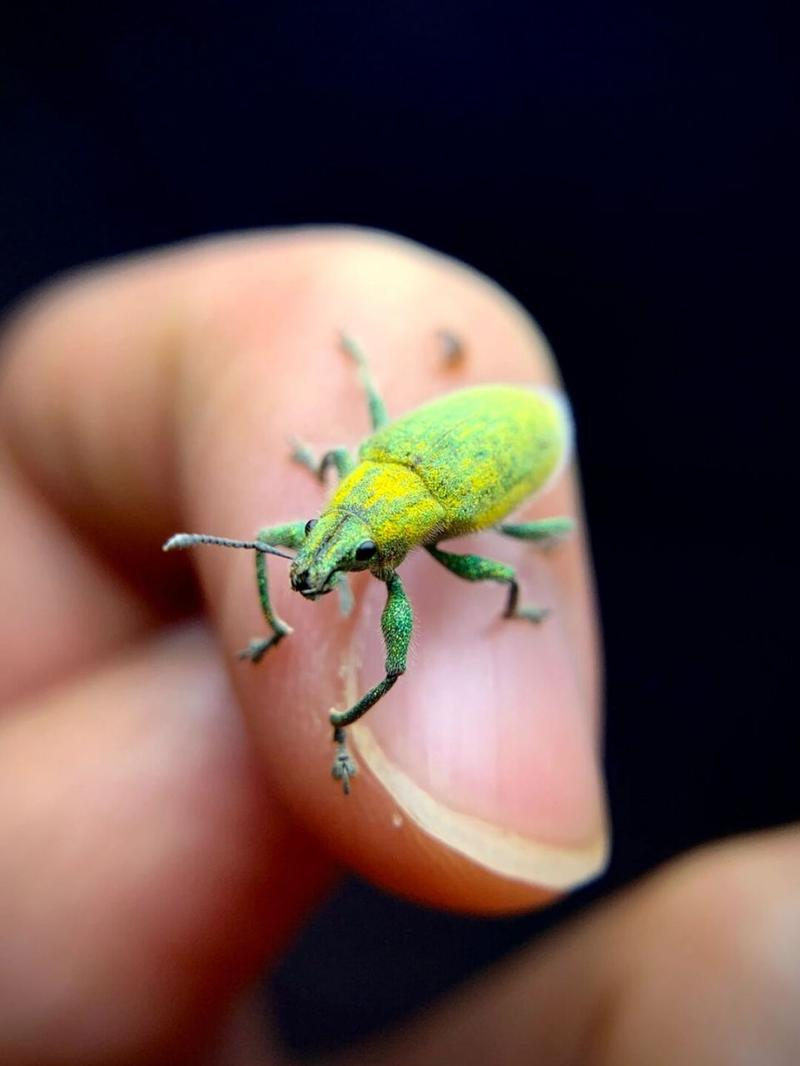Curculionidae: (163, 329, 579, 796)
